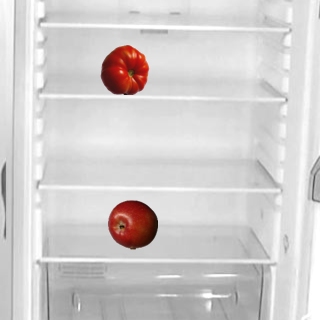Apple Braeburn: (107, 199, 157, 249)
Tomato 3: (99, 44, 149, 94)
